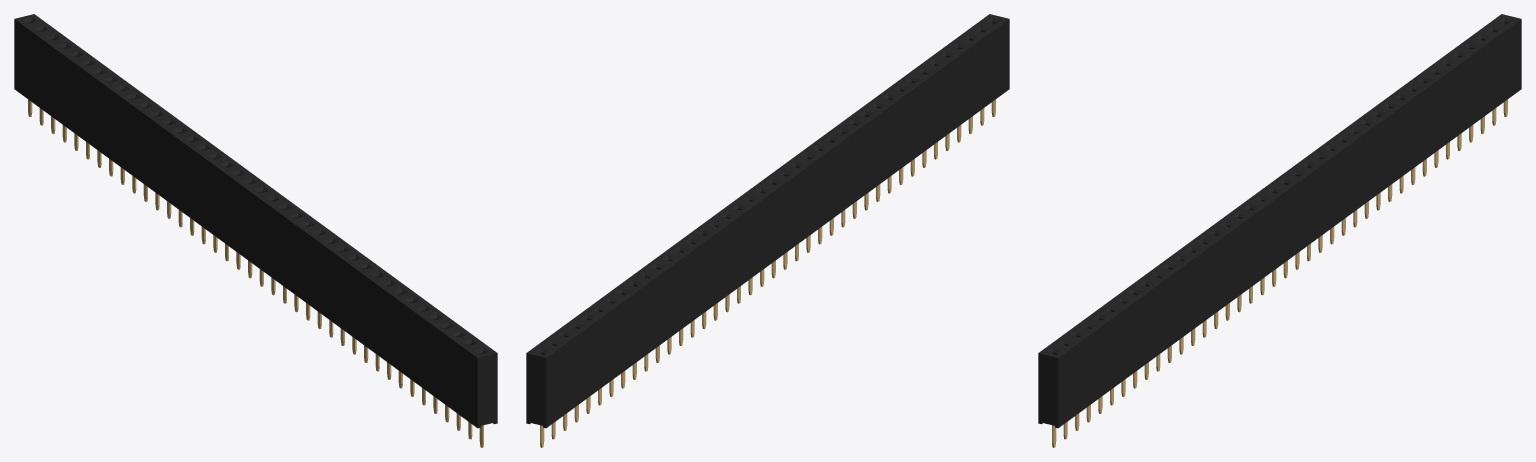
File: kc-pinsocket_1x40_p2.54mm_vertical.glb
3 views of the same model, side by side, from view 1: azimuth 30°, elevation 25°; view 2: azimuth 150°, elevation 25°; view 3: azimuth 330°, elevation 25° (orthographic).
Visible parts, largest first — view 1: 0_0_0_0, 0.75_0.5_0.25_0.9; view 2: 0_0_0_0, 0.75_0.5_0.25_0.9; view 3: 0_0_0_0, 0.75_0.5_0.25_0.9.
Boxes of the visible parts, <box> form: 0_0_0_0: <box>14,14,497,428</box>; 0.75_0.5_0.25_0.9: <box>28,99,483,447</box>; 0_0_0_0: <box>526,14,1009,428</box>; 0.75_0.5_0.25_0.9: <box>540,99,995,447</box>; 0_0_0_0: <box>1038,14,1521,428</box>; 0.75_0.5_0.25_0.9: <box>1052,99,1507,447</box>.
Size of the model in its own units: 0.2543 by 1.16 by 10.16.
